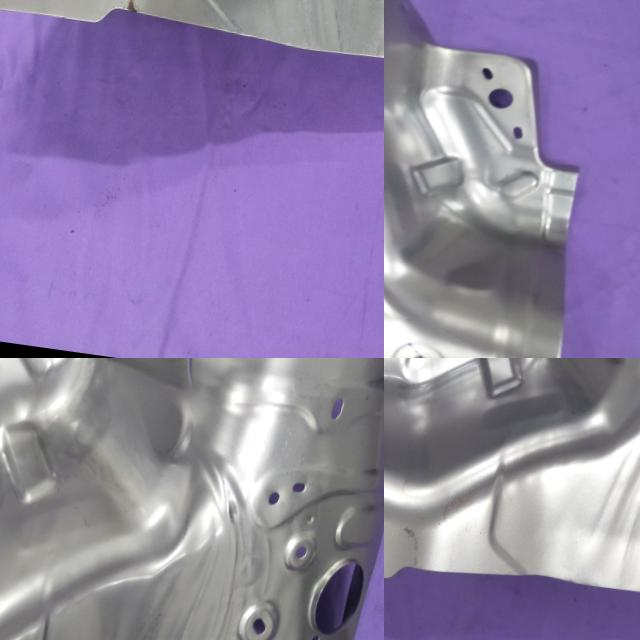Defect: (163, 358, 225, 406)
Healthy: (384, 0, 618, 358), (384, 358, 640, 638)
rust: (97, 0, 159, 39)
